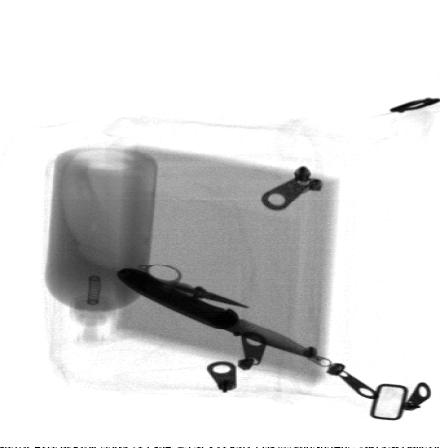Knife: (113, 269, 326, 360)
Scissors: (126, 261, 249, 307)
